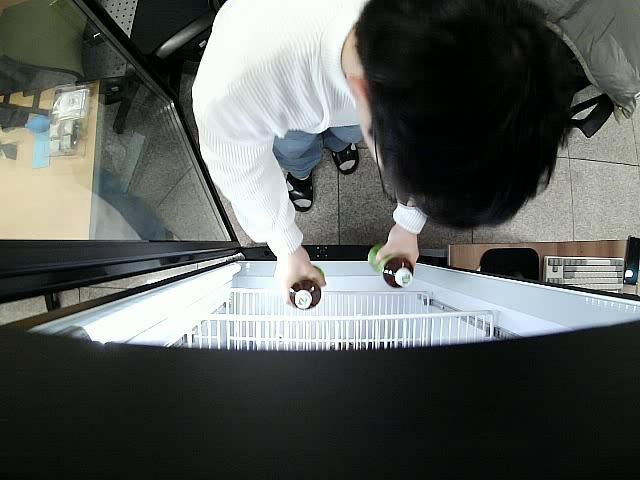19_17cha: (366, 243, 414, 292), (286, 267, 326, 308)
